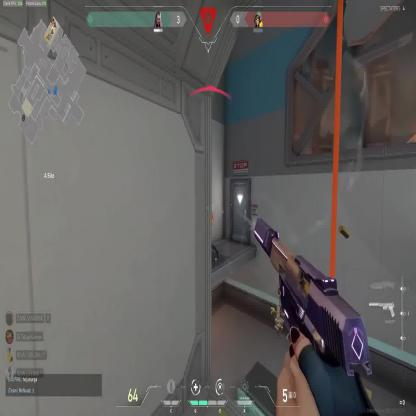enemy: (198, 199, 213, 252)
